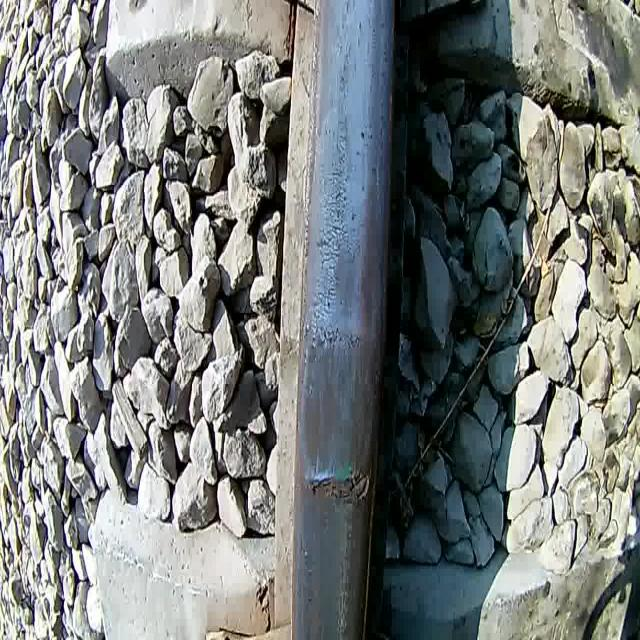Spallings: (296, 452, 374, 514)
Squats: (302, 319, 383, 480), (326, 238, 363, 323)
